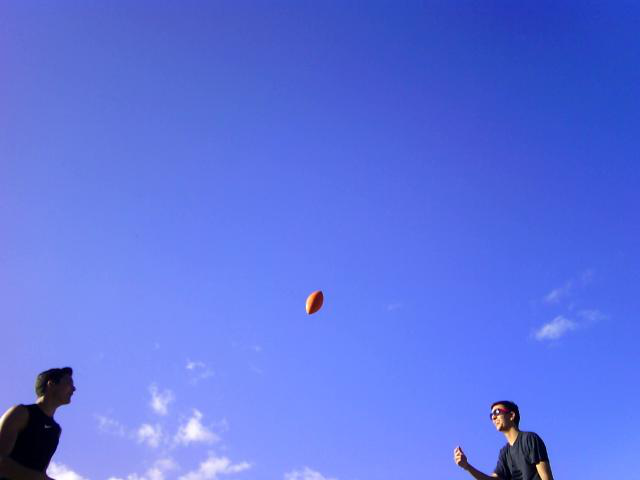football: (302, 286, 327, 319)
